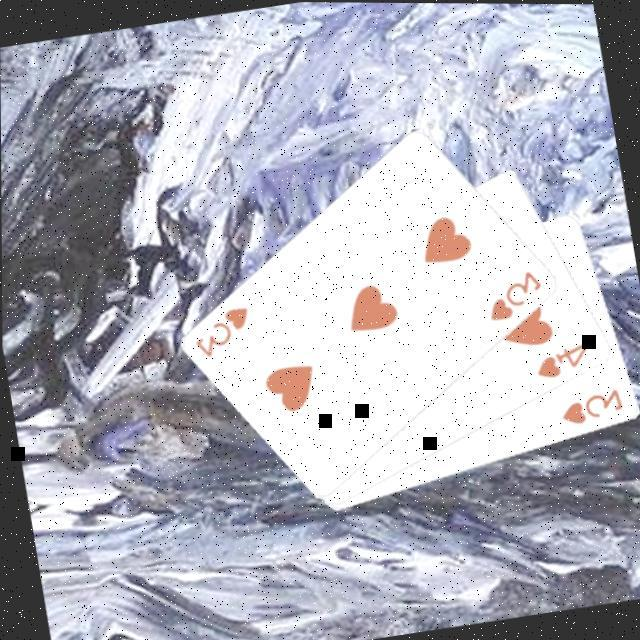3H: (190, 302, 261, 363), (482, 265, 552, 326), (558, 384, 630, 429)
4H: (532, 337, 600, 384)
